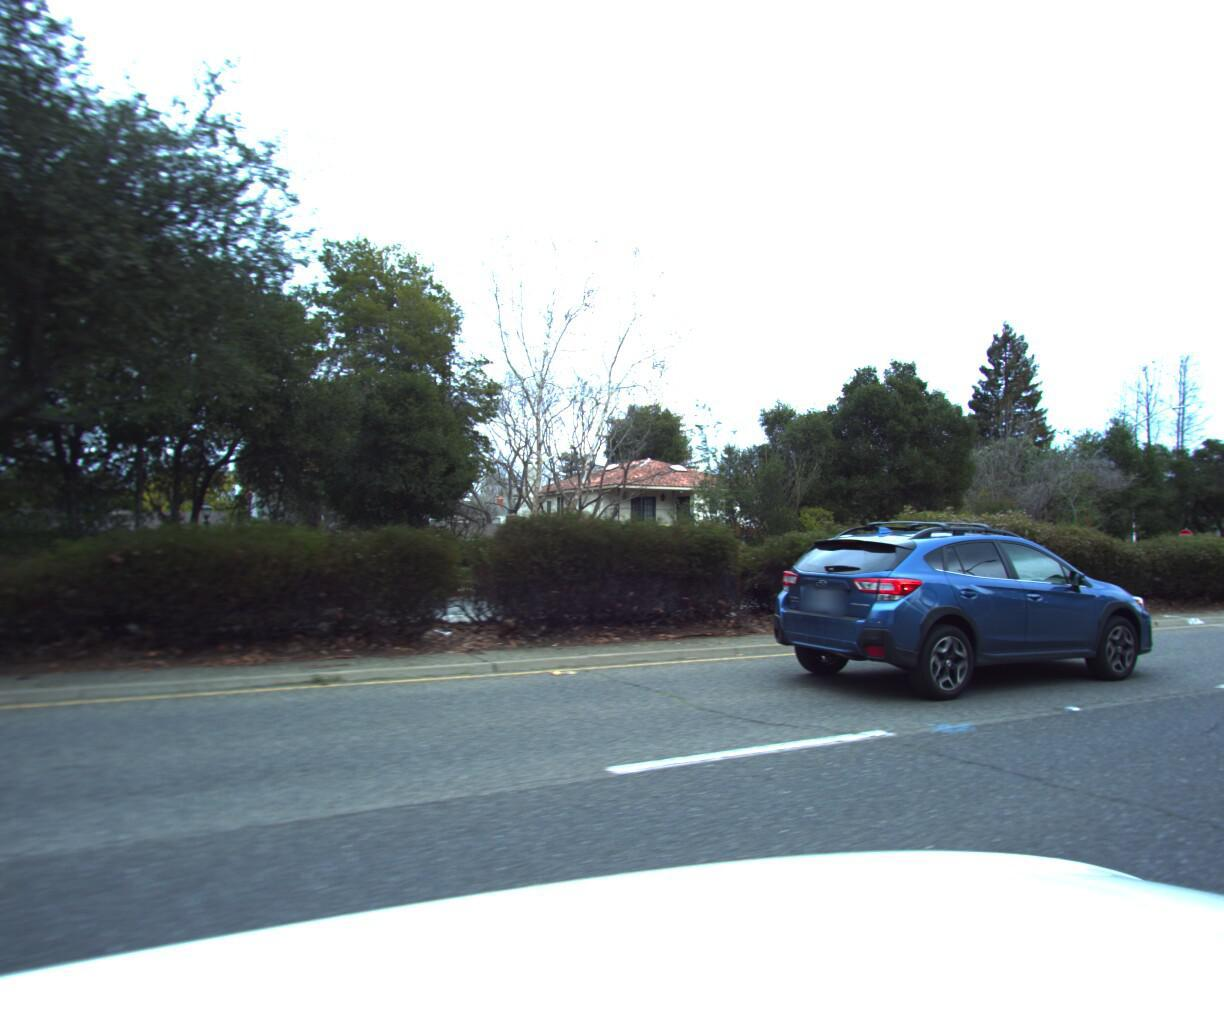car: (745, 525, 1158, 711)
